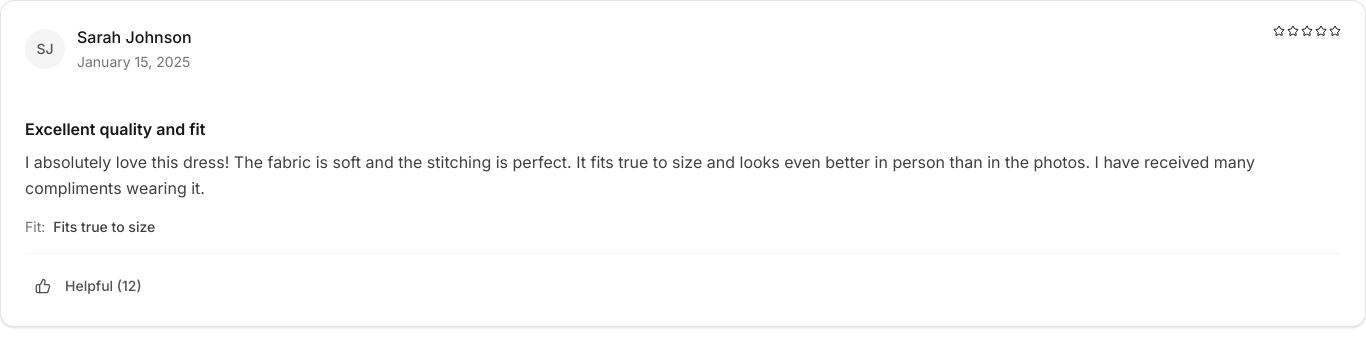
Test case: ReviewCard › should increment helpful count when clicked
What coordinates should you click on to do the following:
click the button "Helpful (12)"
I would click on:
 (88, 286)
Its box is [25,270,152,302].
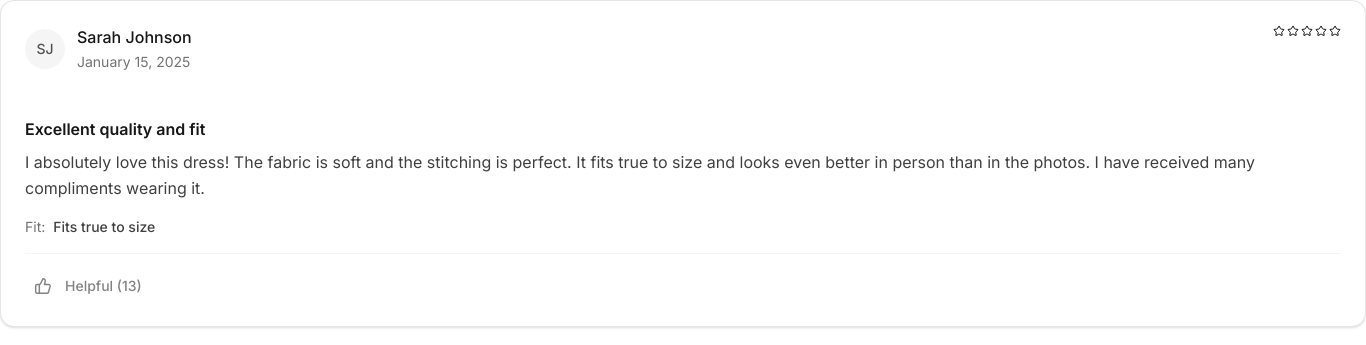
Result: the text "Helpful (13)" is shown at [65,276,142,296]
